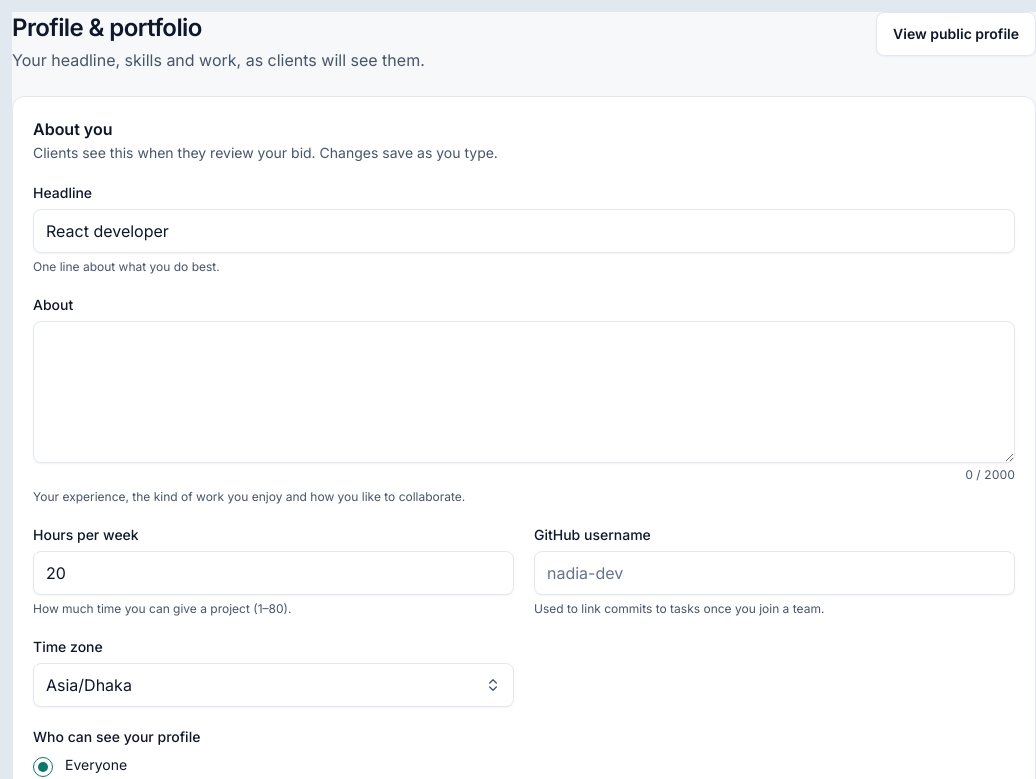
Test: ProfilePage › autosaves the headline with only that field and says Saved
This screenshot has width=1036, height=779.
Replace the text in the field labelled "Headline" with "Accessible React forms" at (524, 231), box left=33, top=209, right=1015, bottom=253
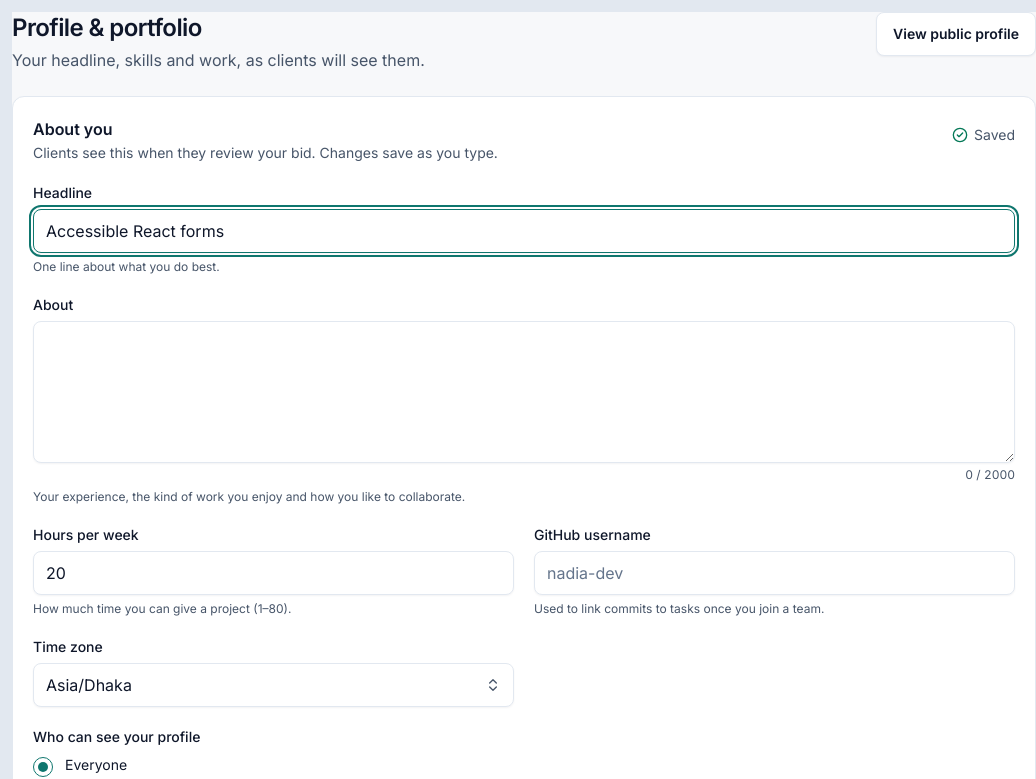
Check: the text "Saved" is shown, box left=974, top=125, right=1015, bottom=145
